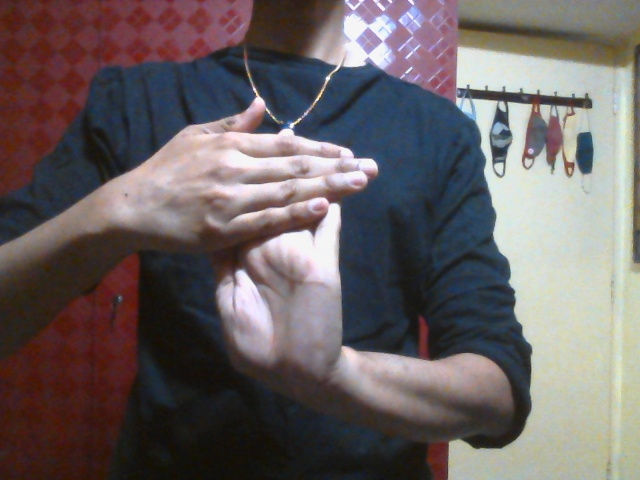H: (127, 98, 379, 382)
